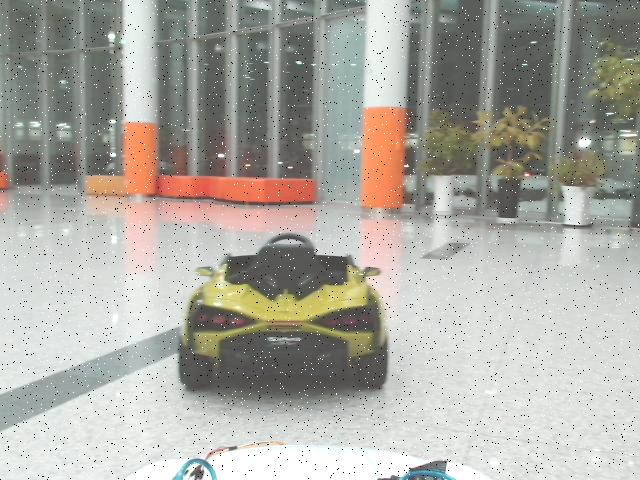car: (178, 233, 389, 389)
